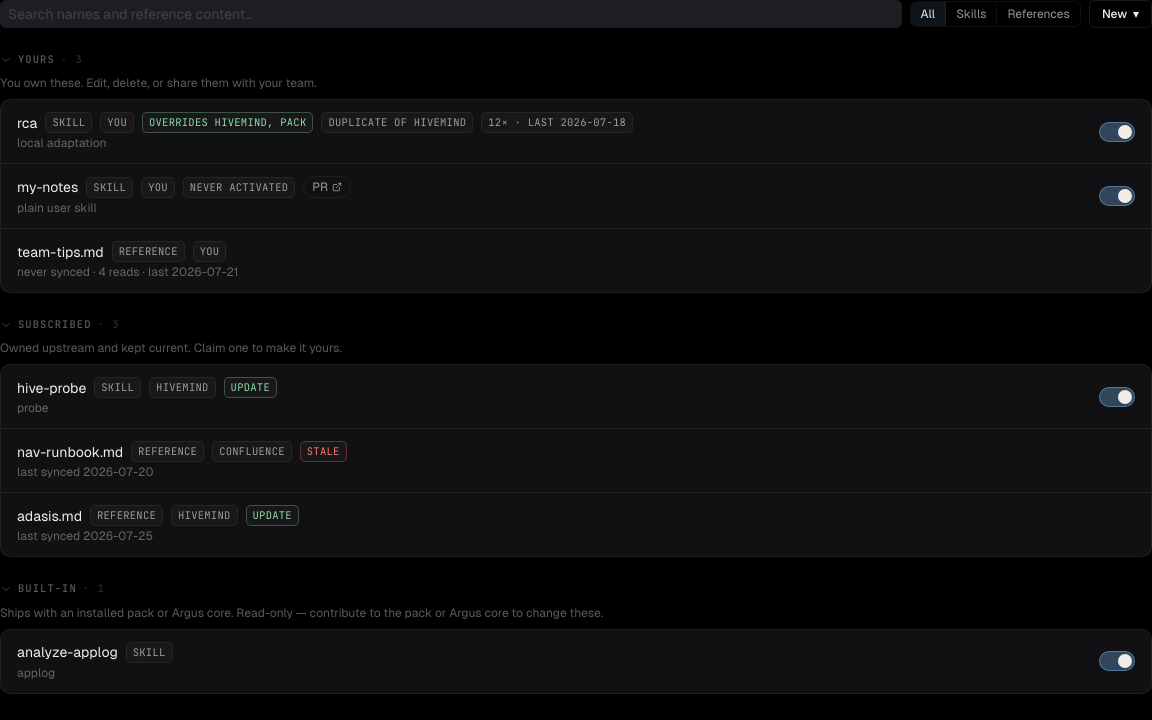
editing affordances › offers no "Edit a copy" for a bundled skill — shows a read-only note instead
This screenshot has width=1152, height=720.
Click the button "analyze-applog" at (67,652), box x1=17 y1=642 x2=118 y2=662
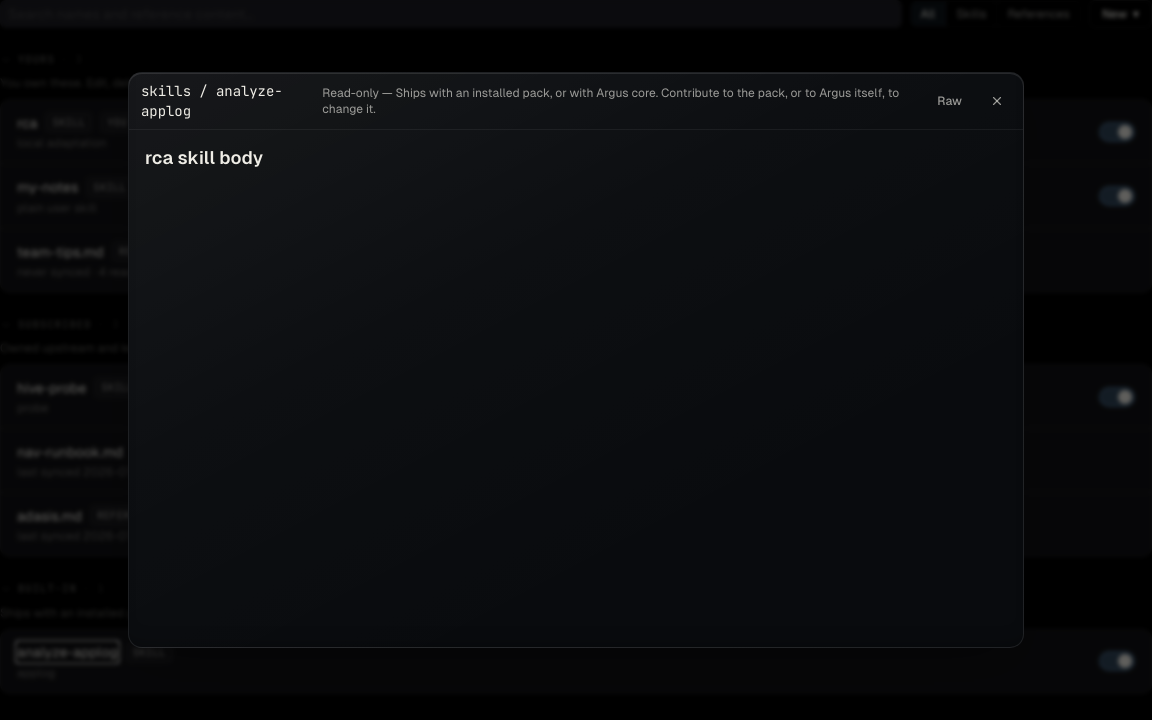
Now the dialog named "skill · analyze-applog" is shown
Now the text "Read-only — Ships with an installed pack" is shown, box x1=322 y1=85 x2=916 y2=117
